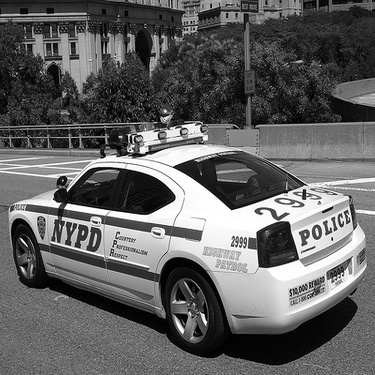car: (8, 118, 368, 357)
